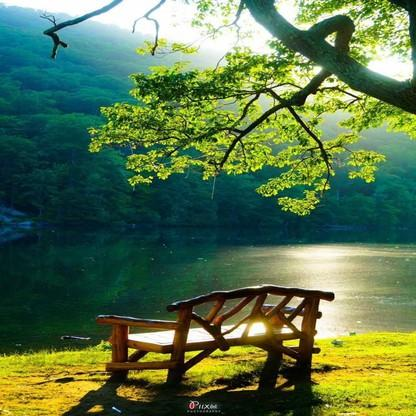obstacle: (99, 270, 343, 393)
